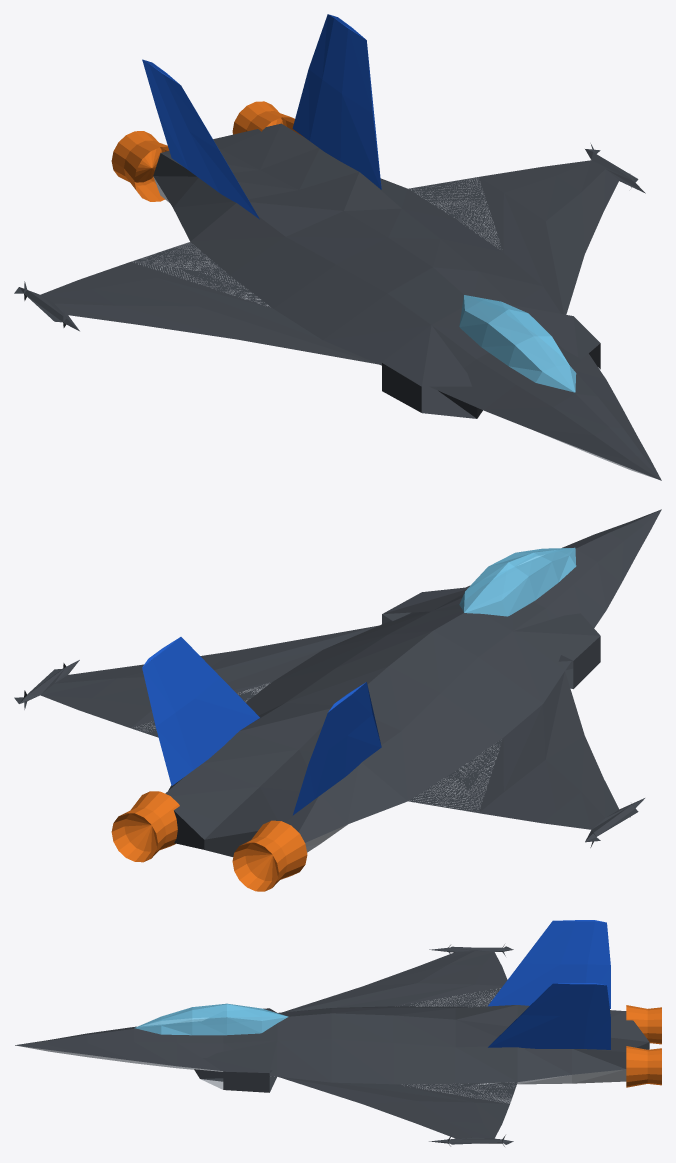
Rendered from fighter_jet.obj.
3 views of the same model, one above another, from view 1: azimuth 30°, elevation 25°; view 2: azimuth 150°, elevation 25°; view 3: azimuth 270°, elevation 25° (orthographic). The views are drawn at different scales.
Visible parts, largest first — view 1: fuselage, wings, tail_fins, canopy, engines, underside; view 2: fuselage, wings, tail_fins, engines, canopy, underside; view 3: fuselage, wings, tail_fins, canopy, engines, underside.
Part boxes in pixels (<box>): fuselage: <box>153,123,661,480</box>; wings: <box>14,143,645,364</box>; tail_fins: <box>142,14,381,219</box>; canopy: <box>459,295,576,392</box>; engines: <box>111,101,304,201</box>; underside: <box>132,177,658,479</box>; fuselage: <box>165,509,661,856</box>; wings: <box>14,625,644,847</box>; tail_fins: <box>142,637,381,815</box>; engines: <box>111,791,307,891</box>; canopy: <box>459,547,576,616</box>; underside: <box>134,683,571,852</box>; fuselage: <box>15,1005,649,1092</box>; wings: <box>279,944,517,1146</box>; tail_fins: <box>488,920,610,1049</box>; canopy: <box>134,1003,288,1035</box>; engines: <box>626,1005,661,1087</box>; underside: <box>17,988,626,1103</box>.
Size of the model in its own units: 12.14 by 3.32 by 16.72.
